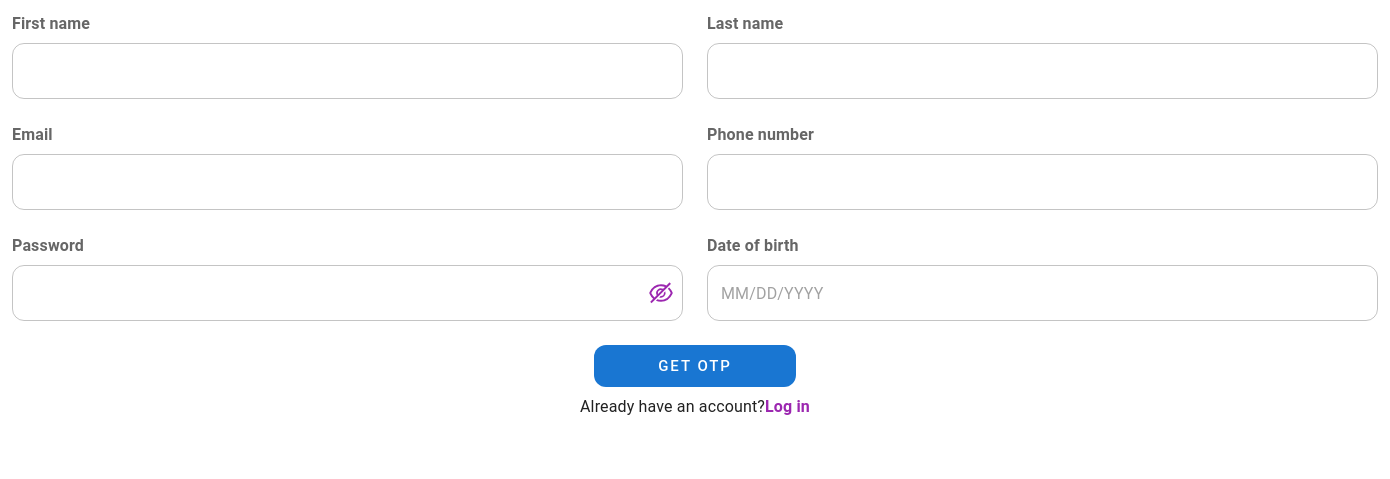
AuthRegister (Registration) - Unit Tests › Submit › shows thrown error message when signIn rejects (server error case)
The width and height of the screenshot is (1390, 479).
Type "John" into the field labelled "First name" at (348, 71), box [12,43,683,99]
Type "Doe" into the field labelled "Last name" at (1042, 71), box [707,43,1378,99]
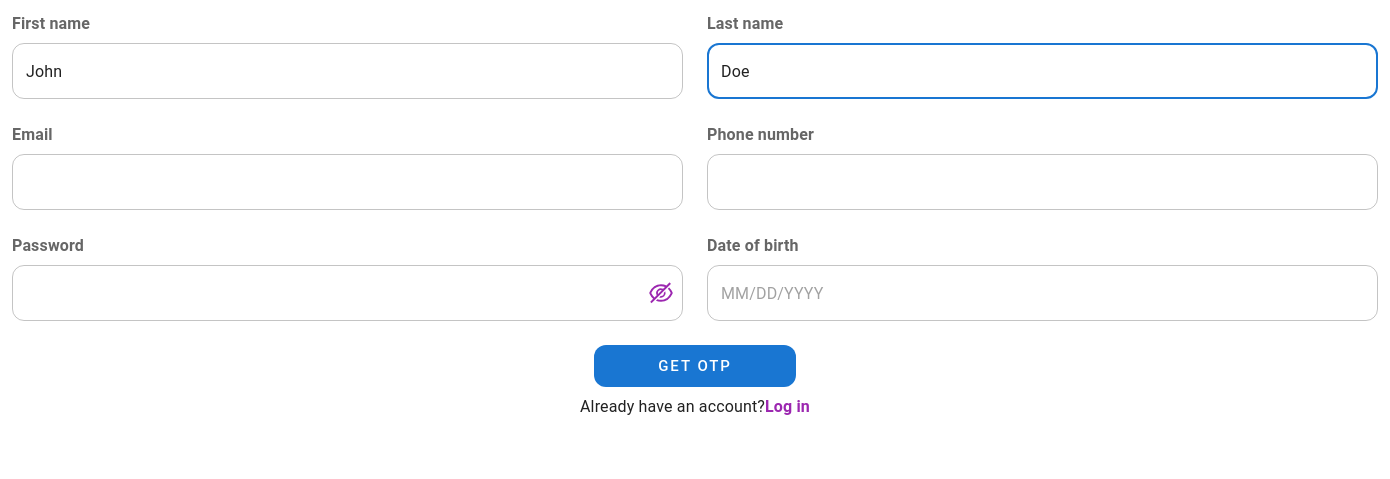
Type "john@example.com" into the field labelled "Email" at (348, 182), box [12,154,683,210]
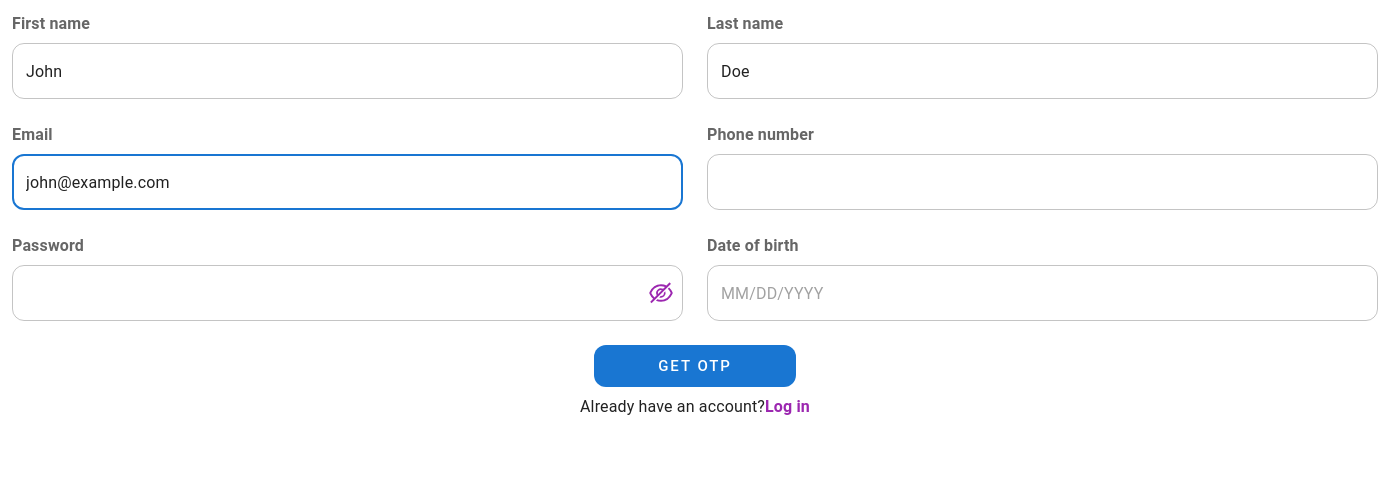
Type "+14155552671" into the field labelled "Phone number" at (1042, 182), box [707,154,1378,210]
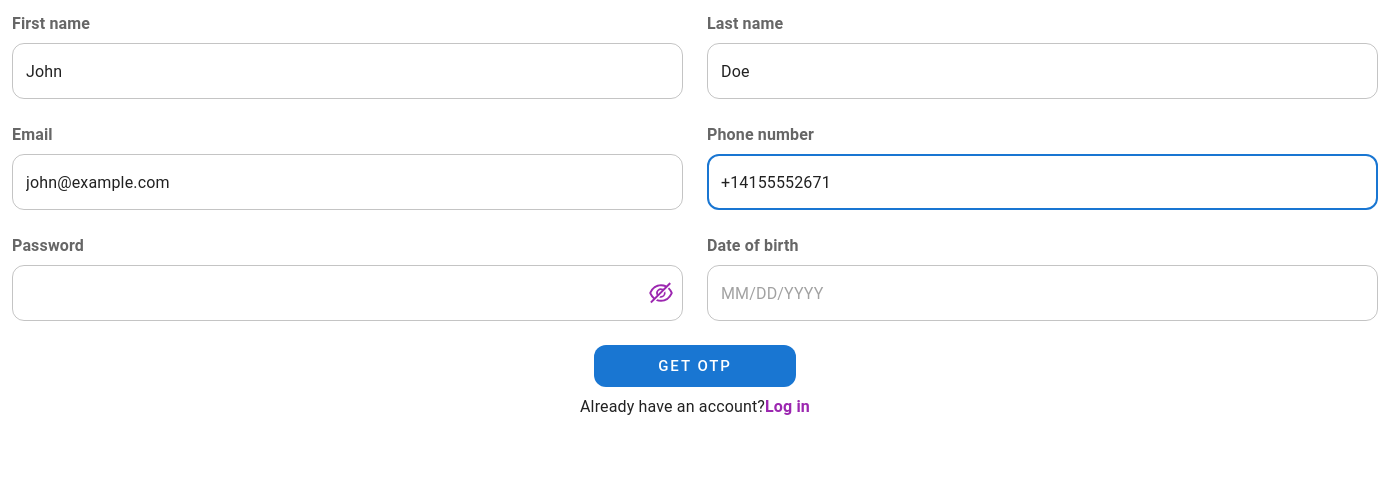
Type "StrongPassword1" into the password field labelled "Password" at (322, 293), box [12,265,633,321]
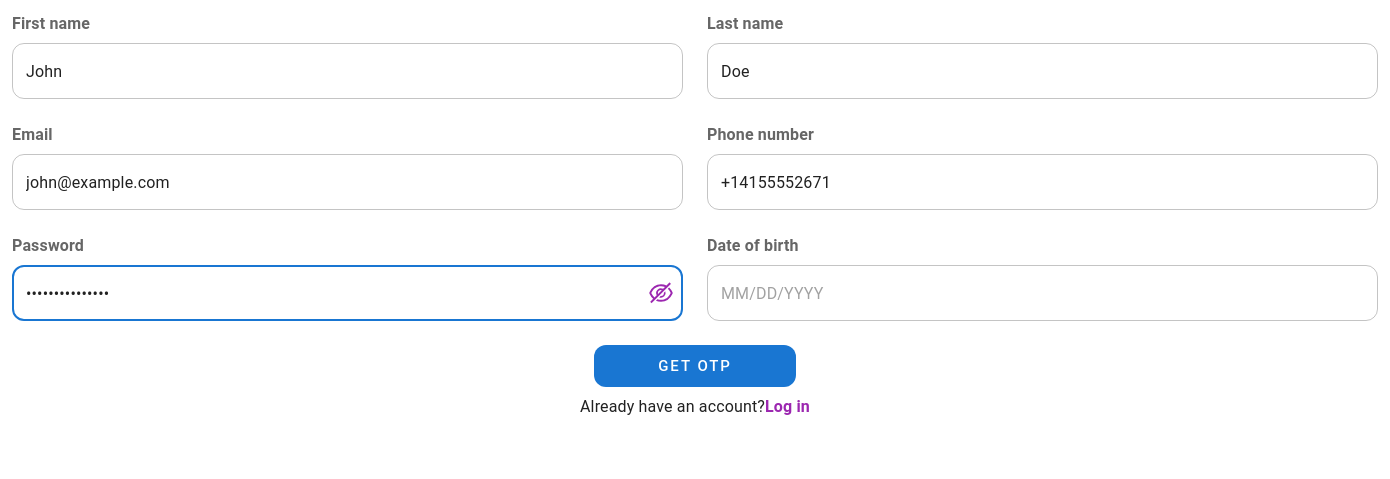
Type "01/01/2000" into the field labelled "Date of birth" at (1042, 293), box [707,265,1378,321]
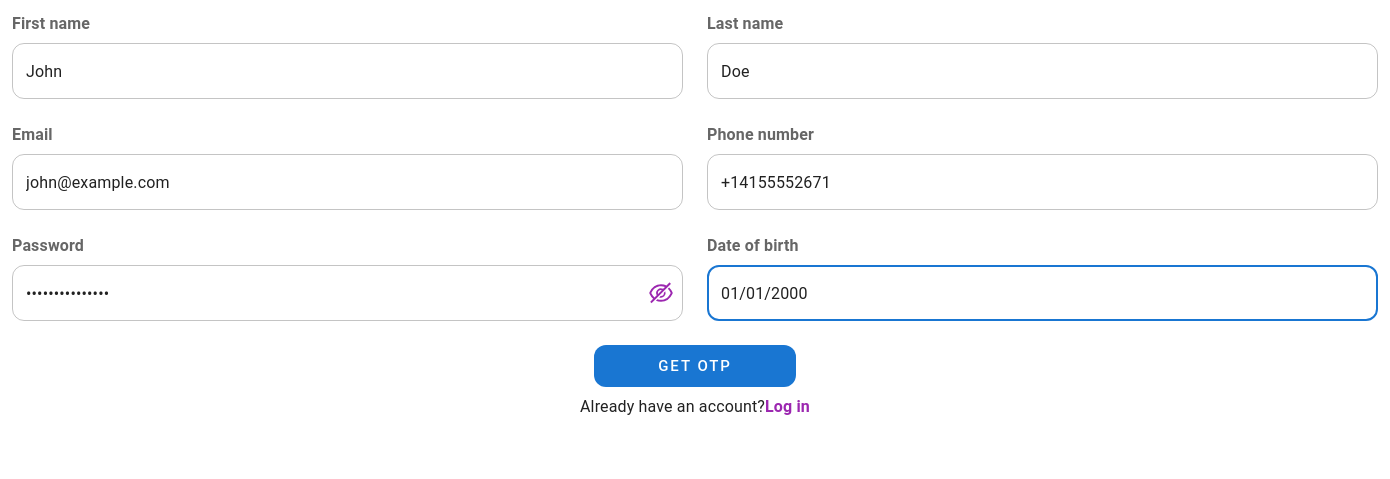
Click the button "Get OTP" at (695, 366), box [594,345,796,387]
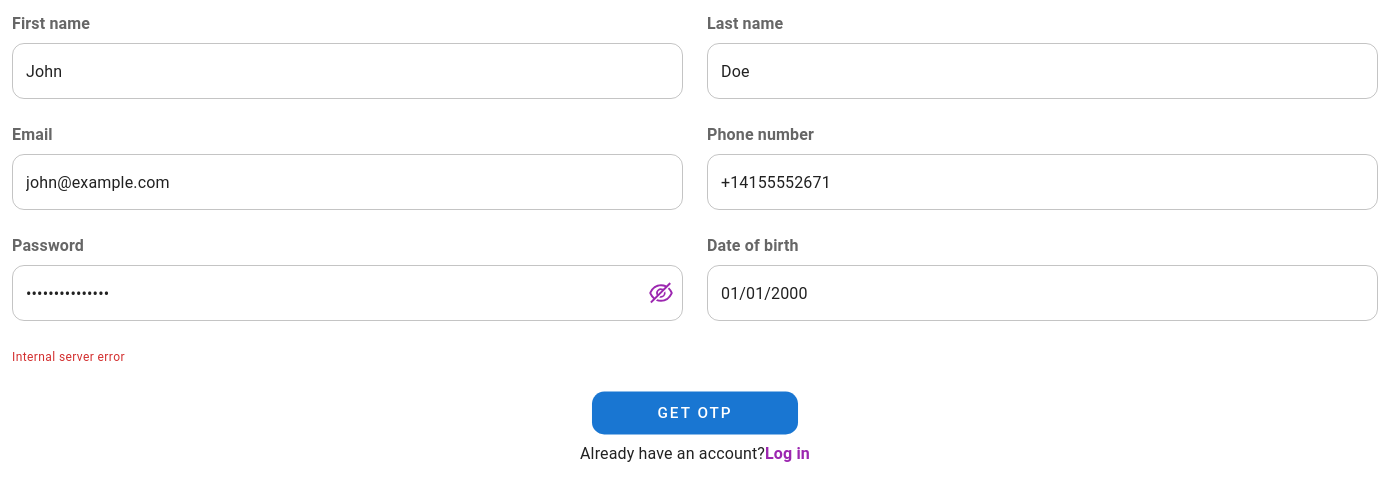
Check: the text "Internal server error" is shown, box [12,350,125,364]
